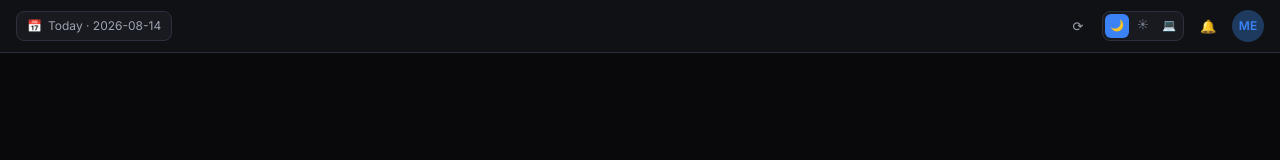
Test: TopNavigation › notifications menu opens and shows an honest empty state
The width and height of the screenshot is (1280, 160).
Click the button named "Notifications": x=1208, y=26 [1192,10,1224,42]
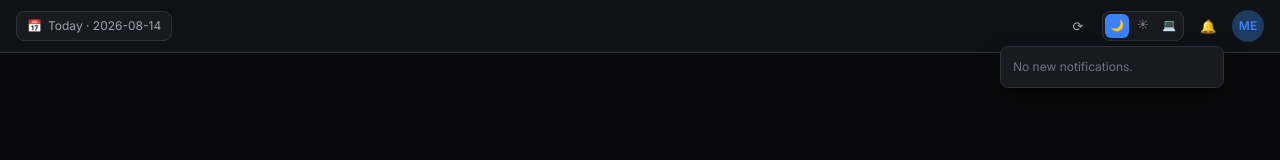
Expected: the menu "No new notifications." is shown, [1000,46,1224,88]
